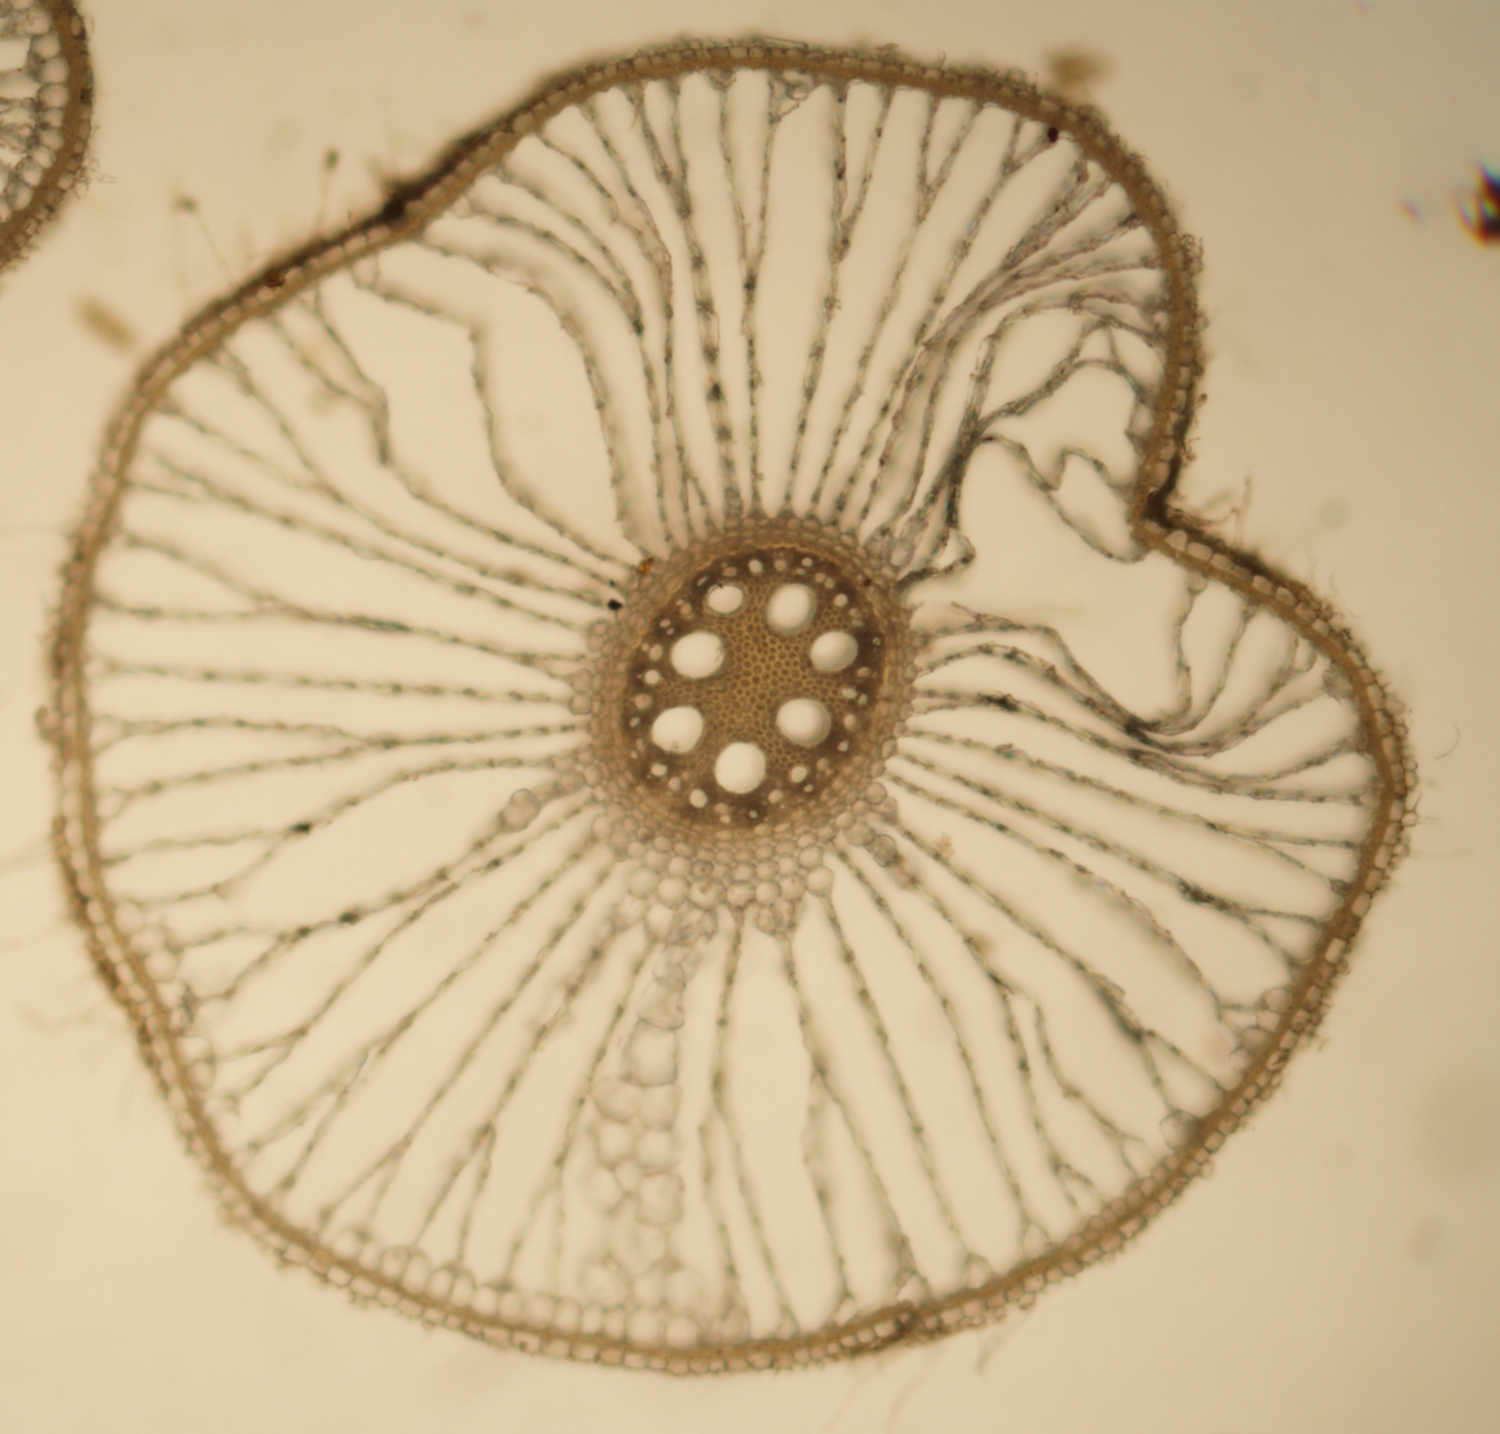lm: (712, 742, 767, 795), (775, 698, 832, 748), (670, 631, 729, 679), (766, 582, 817, 635), (650, 706, 704, 752), (810, 631, 858, 673), (703, 582, 745, 615)
